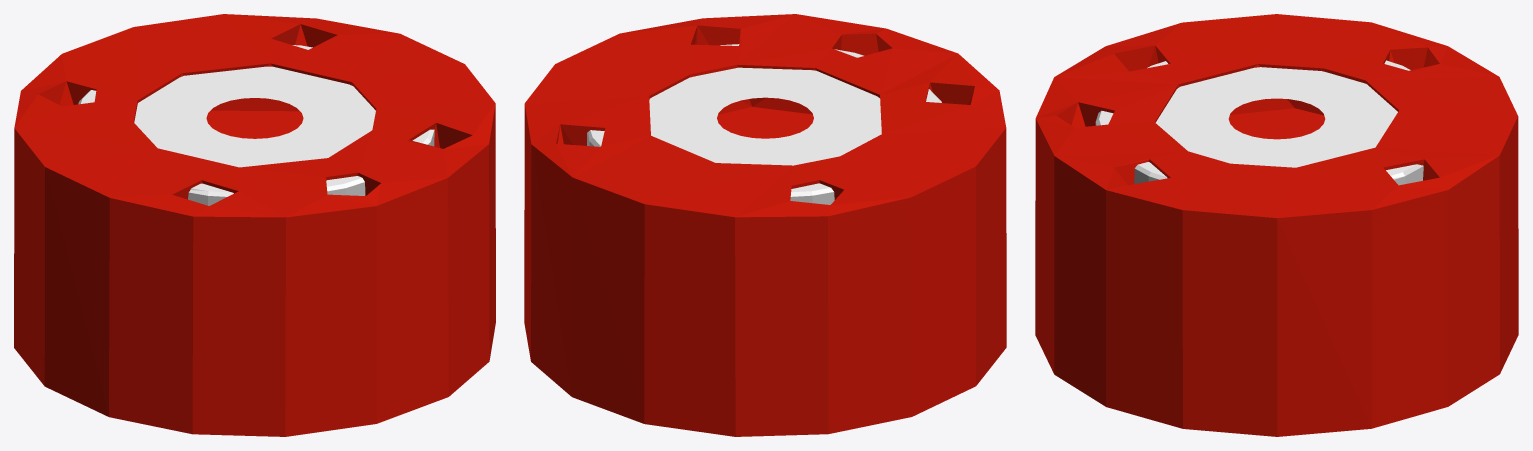
Rendered from DensoVS060Link6.dae.
3 views of the same model, side by side, from view 1: azimuth 30°, elevation 25°; view 2: azimuth 150°, elevation 25°; view 3: azimuth 270°, elevation 25° (orthographic).
Visible parts, largest first — view 1: DensoVS060Link6; view 2: DensoVS060Link6; view 3: DensoVS060Link6.
Part boxes in pixels (left/top/right/bottom): DensoVS060Link6: left=14, top=14, right=495, bottom=436; DensoVS060Link6: left=524, top=14, right=1006, bottom=436; DensoVS060Link6: left=1035, top=14, right=1518, bottom=436.
Bounding box in the file's own units: 0.04 × 0.04 × 0.021.
